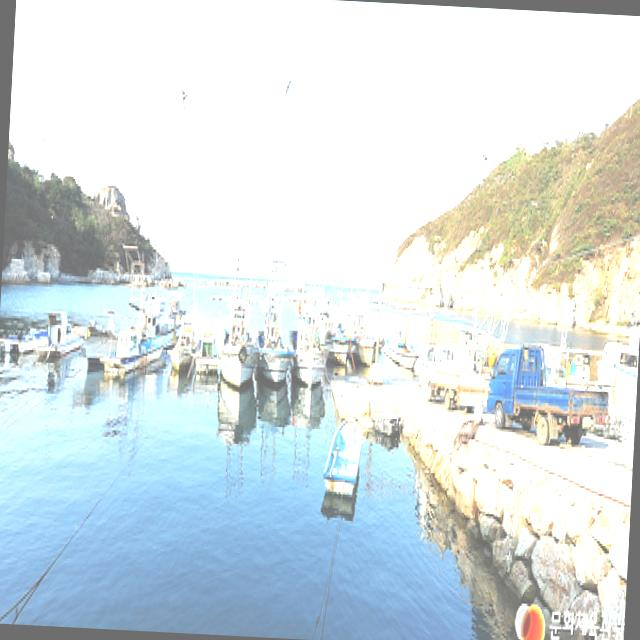Vehicle: (485, 340, 614, 451), (422, 345, 487, 412)
